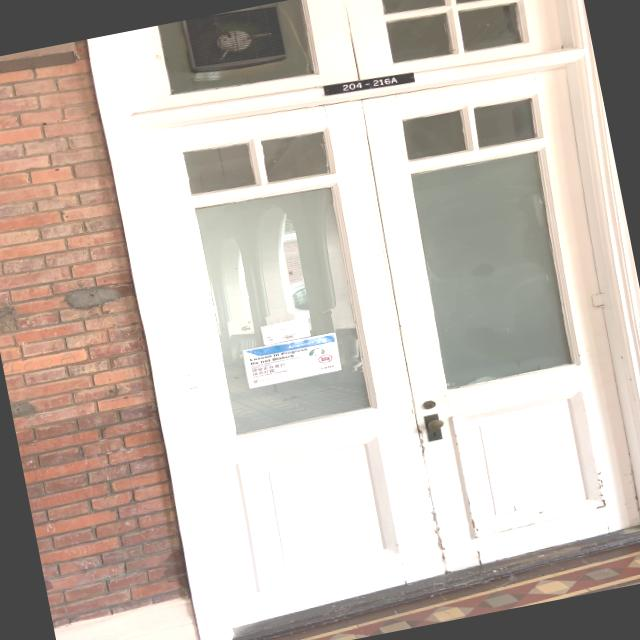room204: (318, 65, 415, 103)
